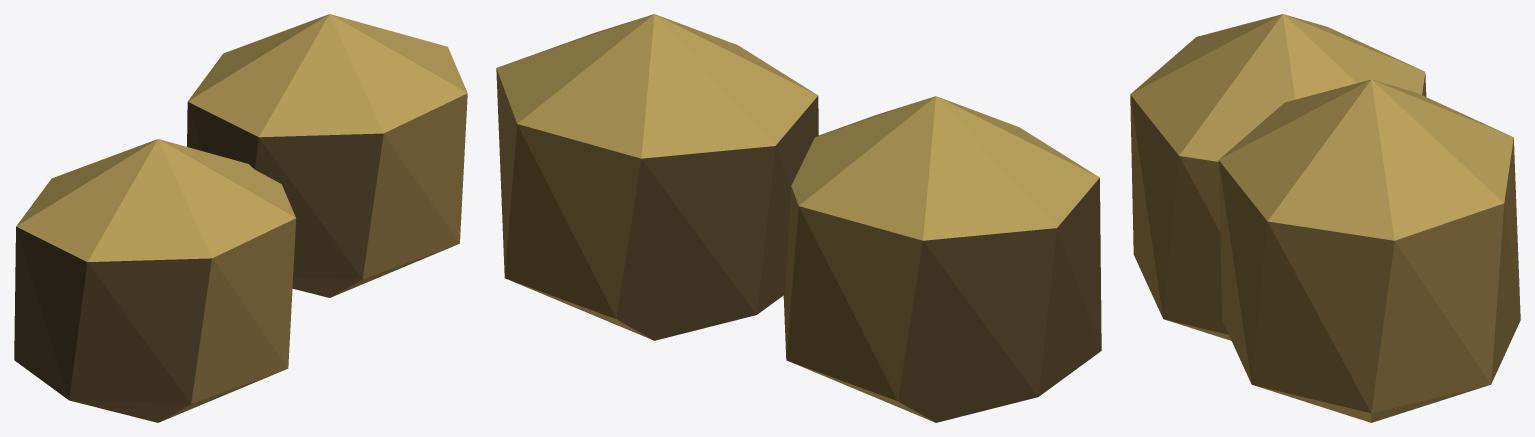
Rendered from TW_VEG_BUSH_SPARSE_A_LOD0.glb.
3 views of the same model, side by side, from view 1: azimuth 30°, elevation 25°; view 2: azimuth 150°, elevation 25°; view 3: azimuth 270°, elevation 25° (orthographic). The views are drawn at different scales.
Visible parts, largest first — view 1: TW_VEG_BUSH_SPARSE_A_LOD0; view 2: TW_VEG_BUSH_SPARSE_A_LOD0; view 3: TW_VEG_BUSH_SPARSE_A_LOD0.
Part boxes in pixels (<box>): TW_VEG_BUSH_SPARSE_A_LOD0: <box>14,14,467,422</box>; TW_VEG_BUSH_SPARSE_A_LOD0: <box>496,14,1101,422</box>; TW_VEG_BUSH_SPARSE_A_LOD0: <box>1130,14,1520,422</box>.
Size of the model in its own units: 1.02 by 0.7 by 0.6183.
Materials: 1 (1 with a texture image).
